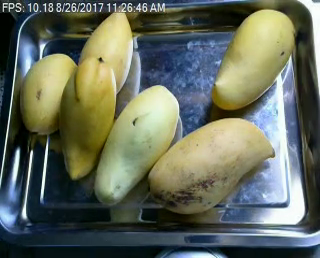Mango: (149, 116, 272, 212), (92, 83, 178, 207), (211, 8, 295, 112), (58, 56, 116, 179), (75, 2, 133, 94), (17, 51, 79, 137)
